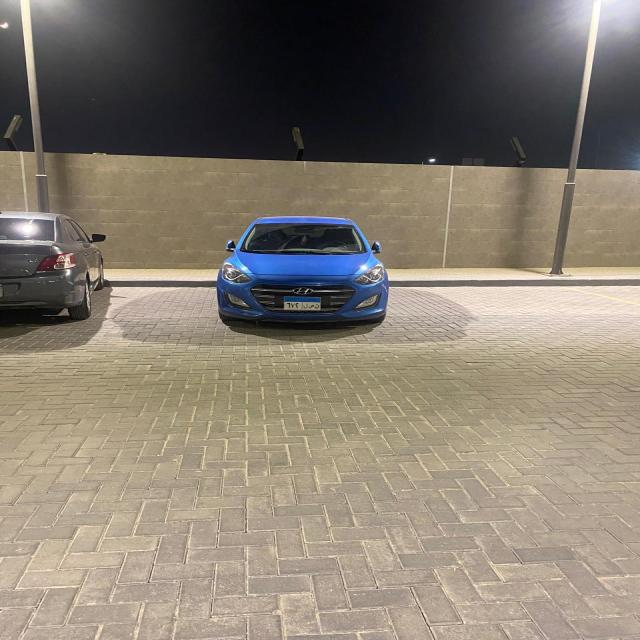car-plate: (285, 297, 321, 310)
